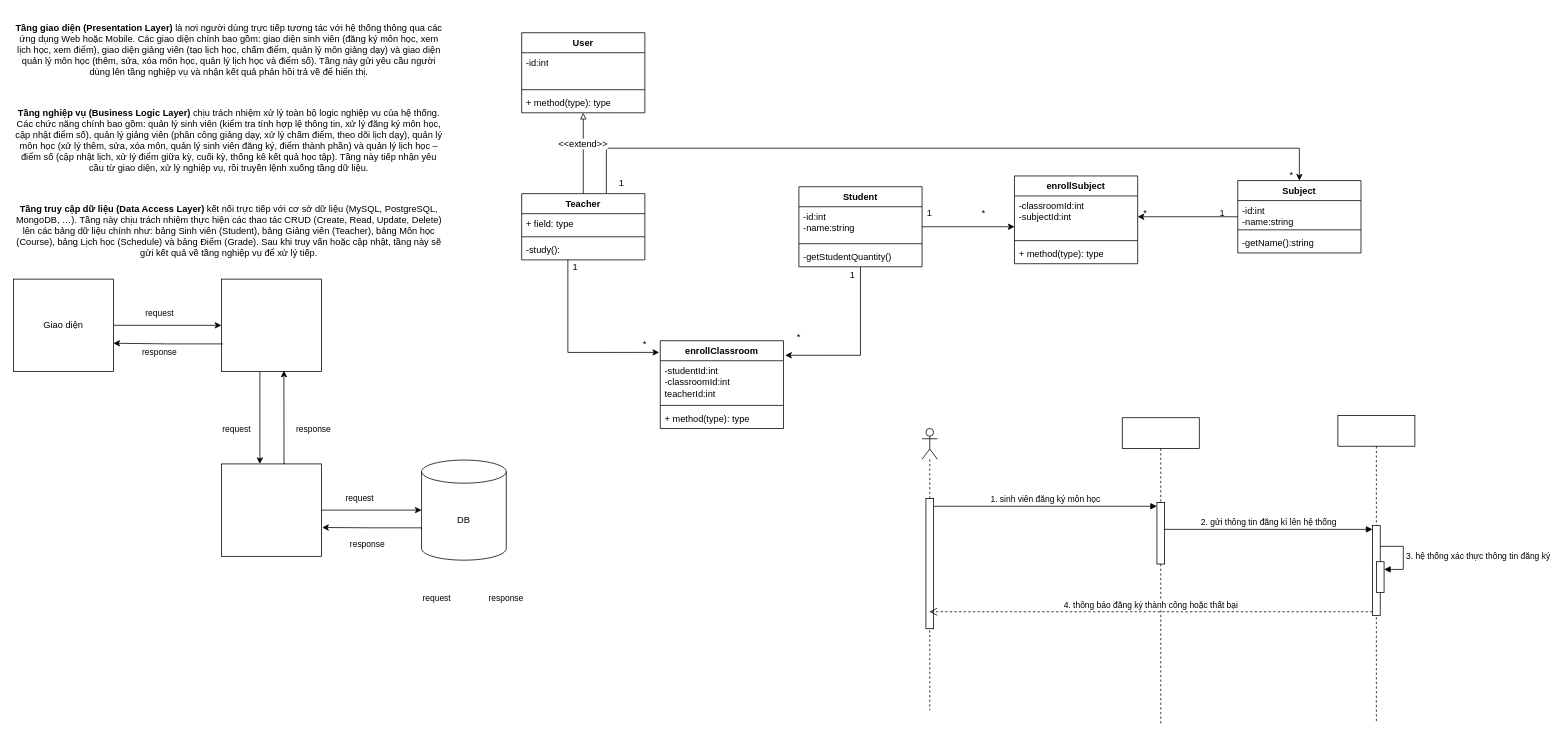
Image size: 1564x739. Some labels were removed from this diagram. The shapes that lost their labels are listed below. From the top down, each one's centre as x and y in pixels, then its label:
the point at 271,325: Tầng nghiệp vụ, logic
the point at 271,509: Truy vấn dữ liệu
the point at 1160,571: Website
the point at 1376,569: Hệ thống
